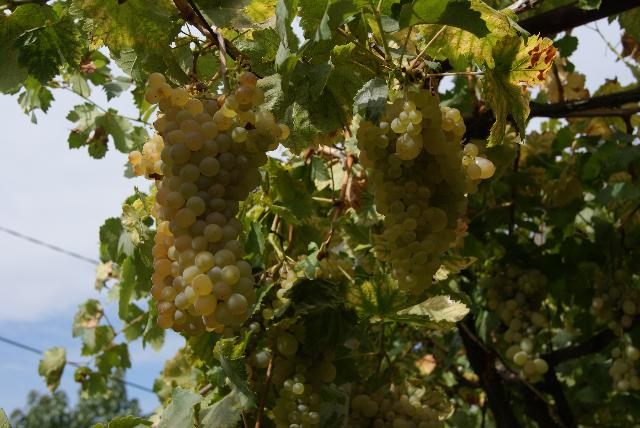grapes: (145, 71, 290, 326), (356, 89, 495, 295), (129, 136, 206, 338), (486, 265, 549, 382)
